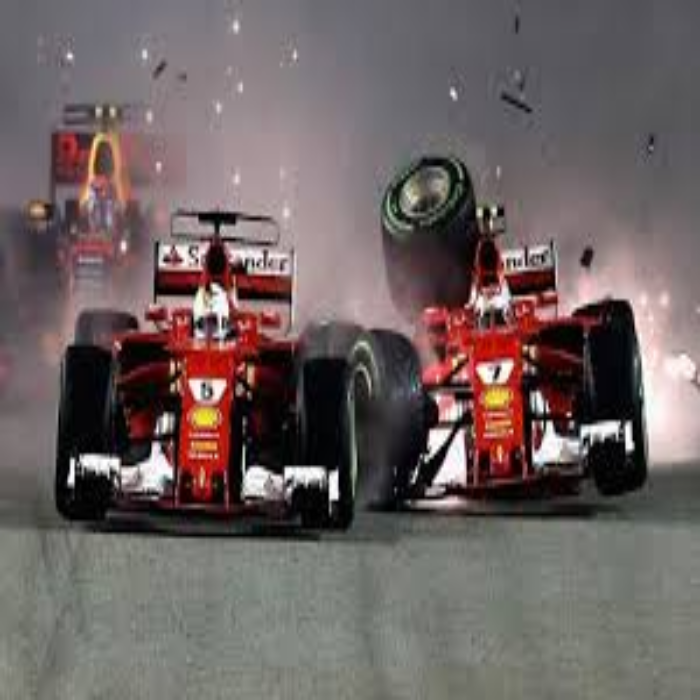f1_car: (337, 224, 664, 533), (59, 213, 367, 531)
